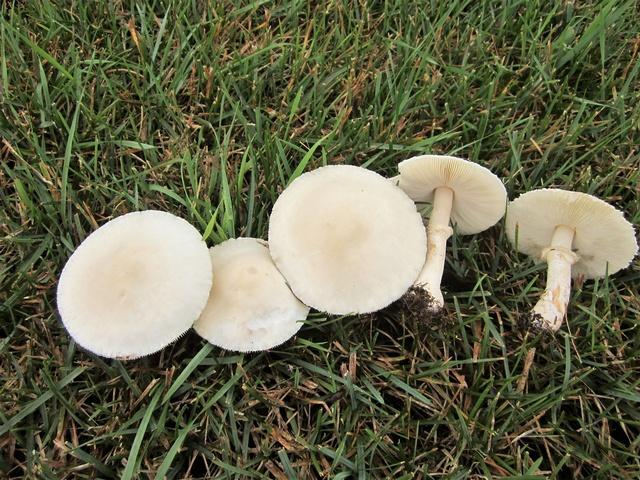Non-edible Mushroom: (267, 163, 428, 316), (55, 208, 213, 360), (504, 186, 638, 335), (388, 153, 507, 315), (191, 235, 310, 353)
